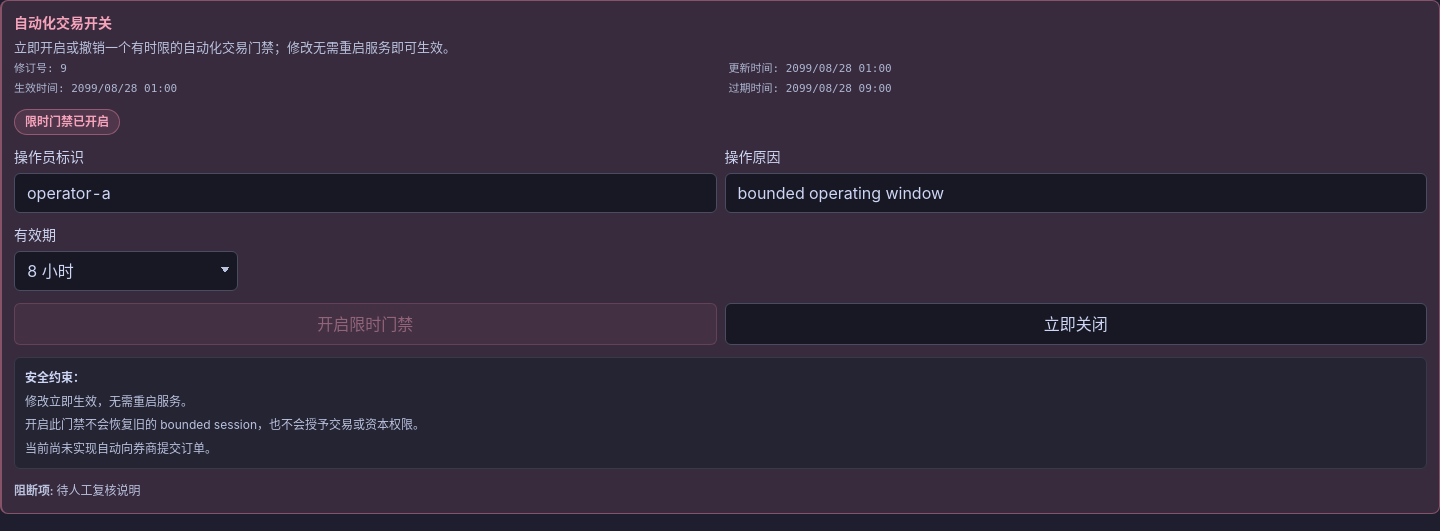
Test: disables an enabled gate immediately with the observed revision and no ttl
Expected: the text "限时门禁已开启" is shown, left=14, top=109, right=120, bottom=135
Replace the text in the field labelled "操作员标识" with "owner-stop" at (365, 193), box left=14, top=173, right=716, bottom=213
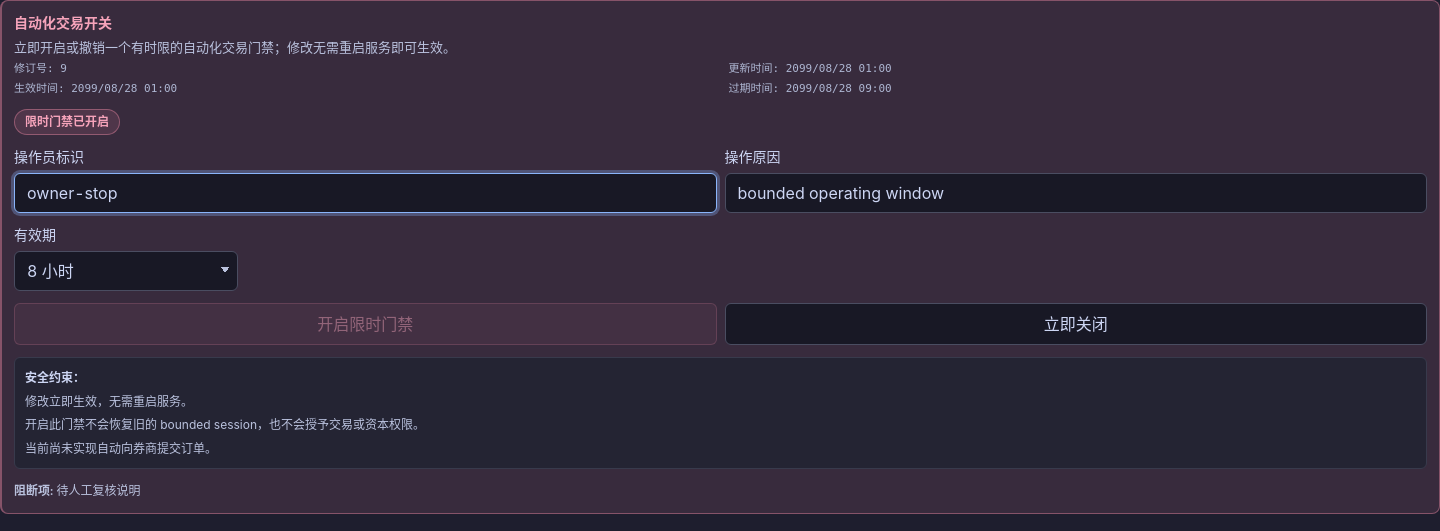
Replace the text in the field labelled "操作原因" with "立即停止自动化" at (1076, 193), box left=724, top=173, right=1427, bottom=213
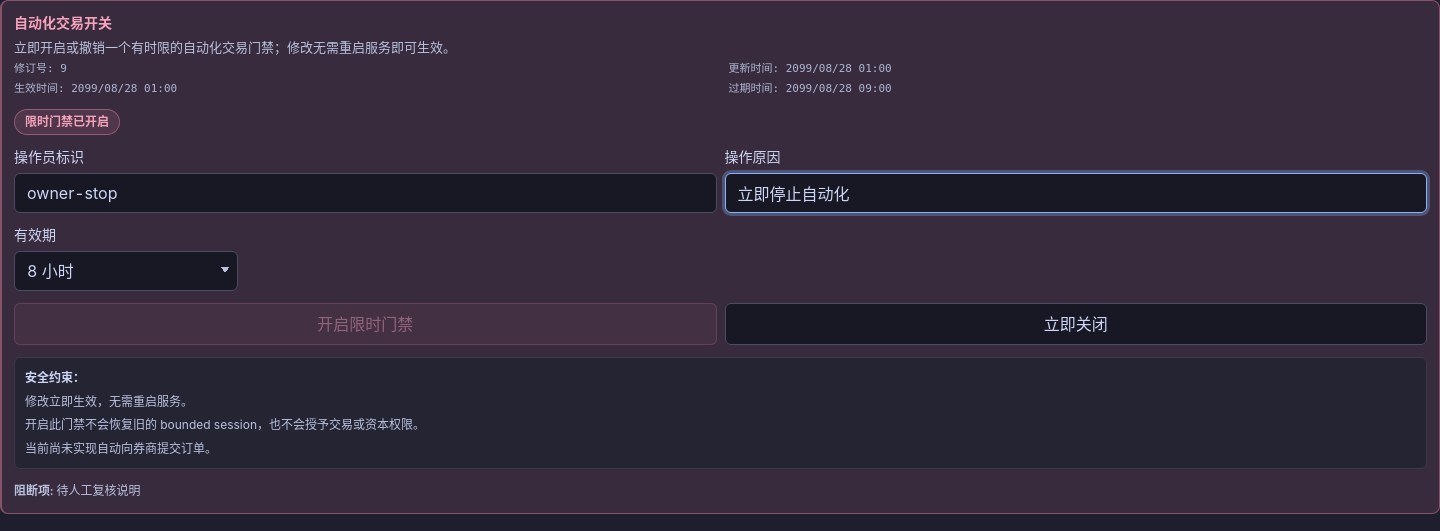
Click the button "立即关闭".
click(1076, 324)  # box left=724, top=303, right=1427, bottom=345
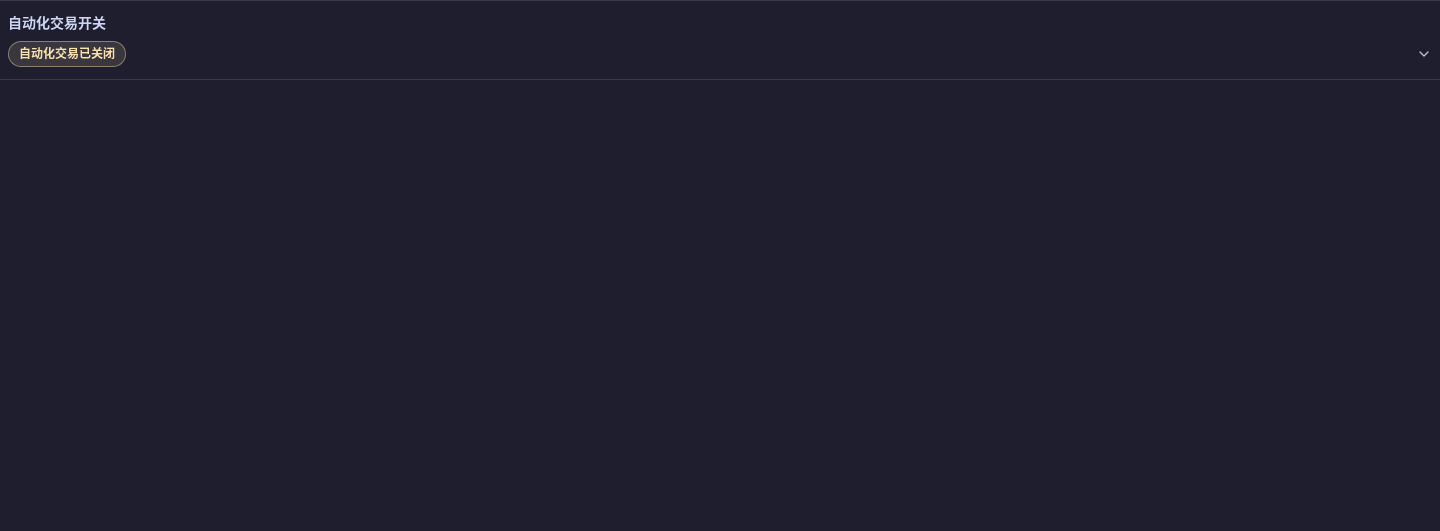
Now the text with test id "automatic-trading-status" reads "自动化交易已关闭", box left=19, top=46, right=115, bottom=61
